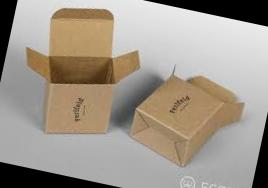Kertas: (25, 7, 139, 132), (25, 7, 137, 131)
